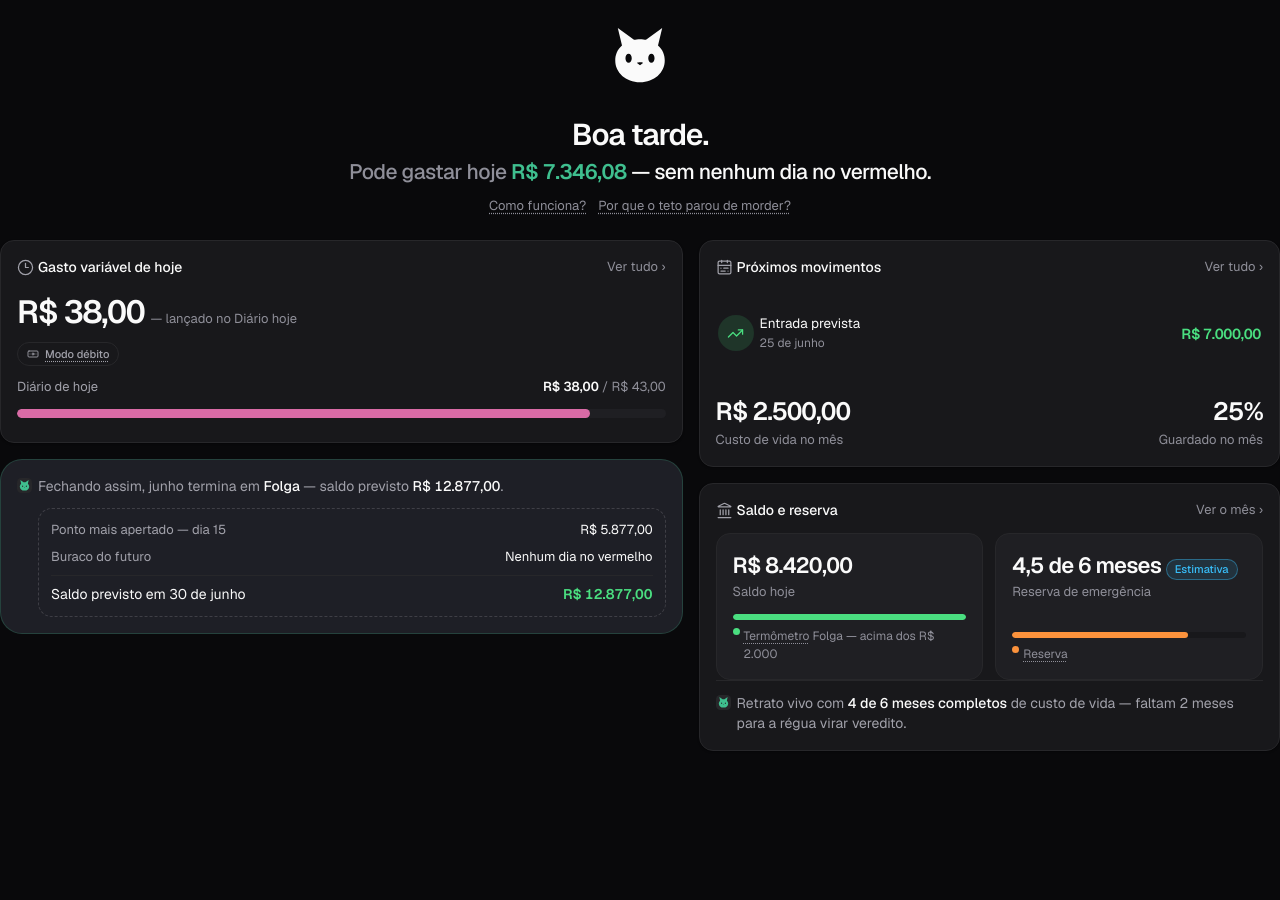
Scenario: DashboardScreen (Hoje) › economia abaixo do piso não zera o teto, e o diagnóstico abre na pergunta
The width and height of the screenshot is (1280, 900).
Expected: the text "Pode gastar hoje R$ 7.346,08 — sem nenhum dia no vermelho." is shown, x1=349 y1=158 x2=931 y2=185
Click the button "Por que o teto parou de morder?" at (695, 206), box x1=598 y1=197 x2=791 y2=216
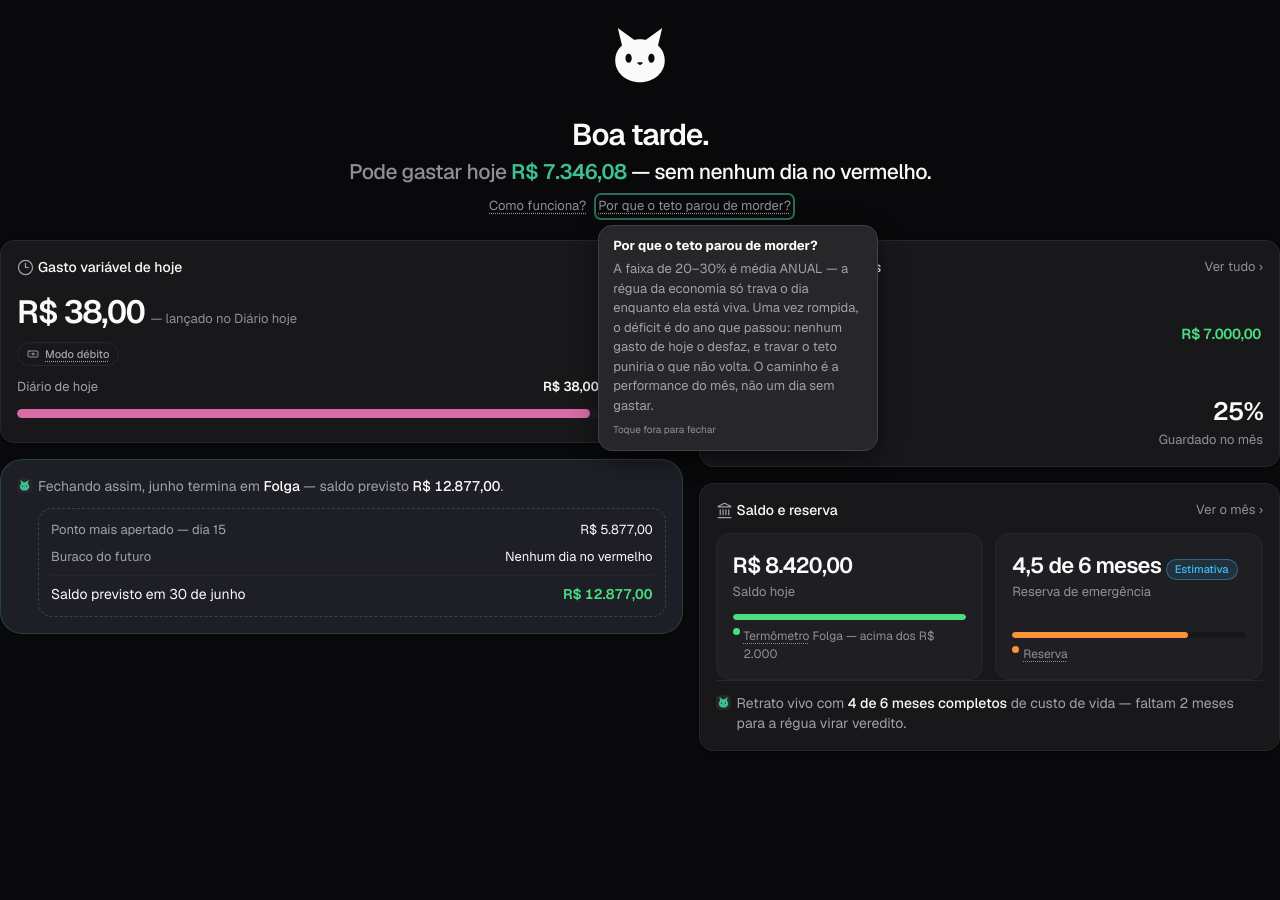
Result: the tooltip shows "performance do mês" at x1=613 y1=260 x2=858 y2=414
